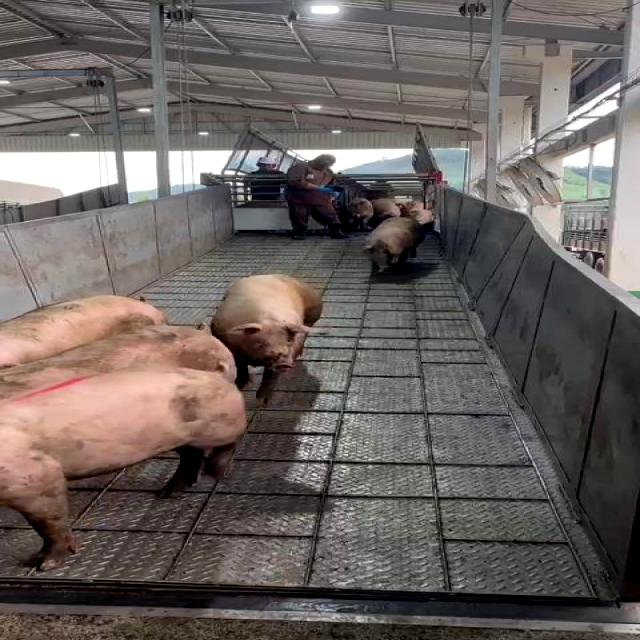pig: (2, 369, 246, 570), (2, 327, 234, 394), (211, 275, 322, 400), (1, 296, 164, 367), (365, 217, 423, 271)
